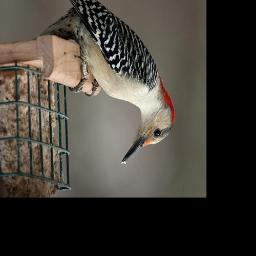Woodpecker: (39, 0, 176, 165)
